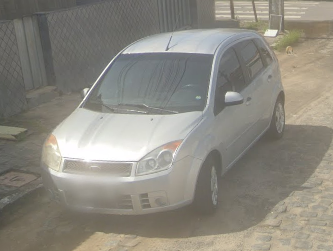car: (41, 28, 285, 214)
